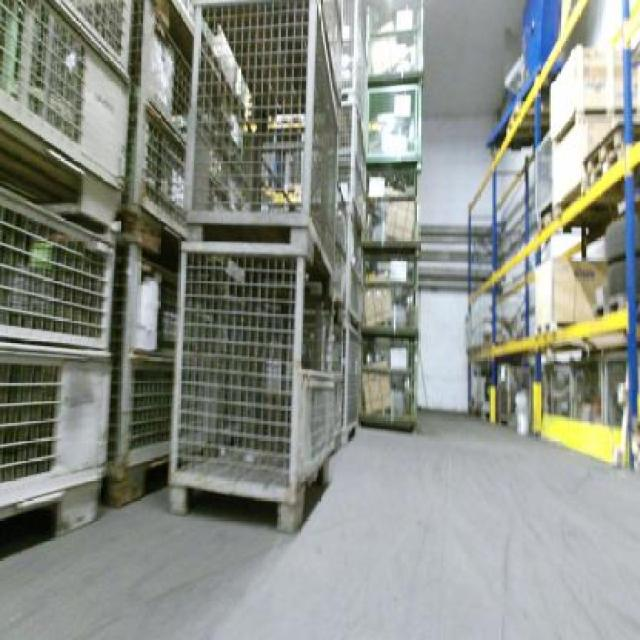pallet: (576, 122, 626, 184), (584, 294, 628, 329)
